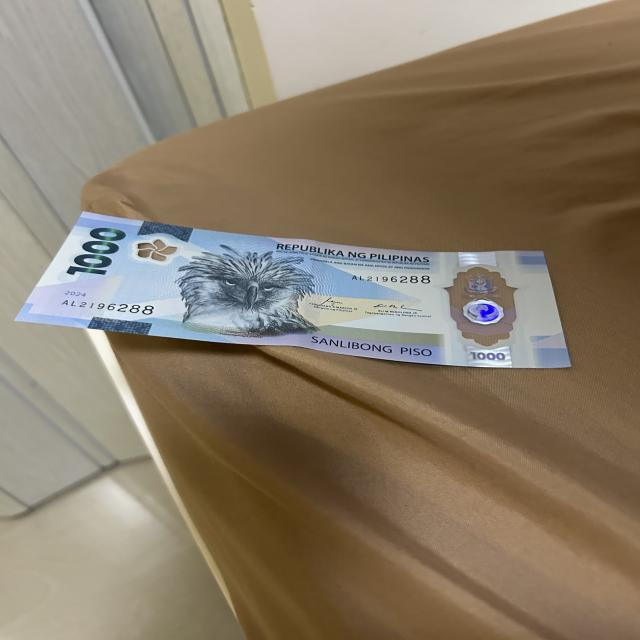clear_window: (449, 263, 520, 346)
eagle: (190, 240, 305, 340)
sampaguita: (132, 234, 176, 267)
